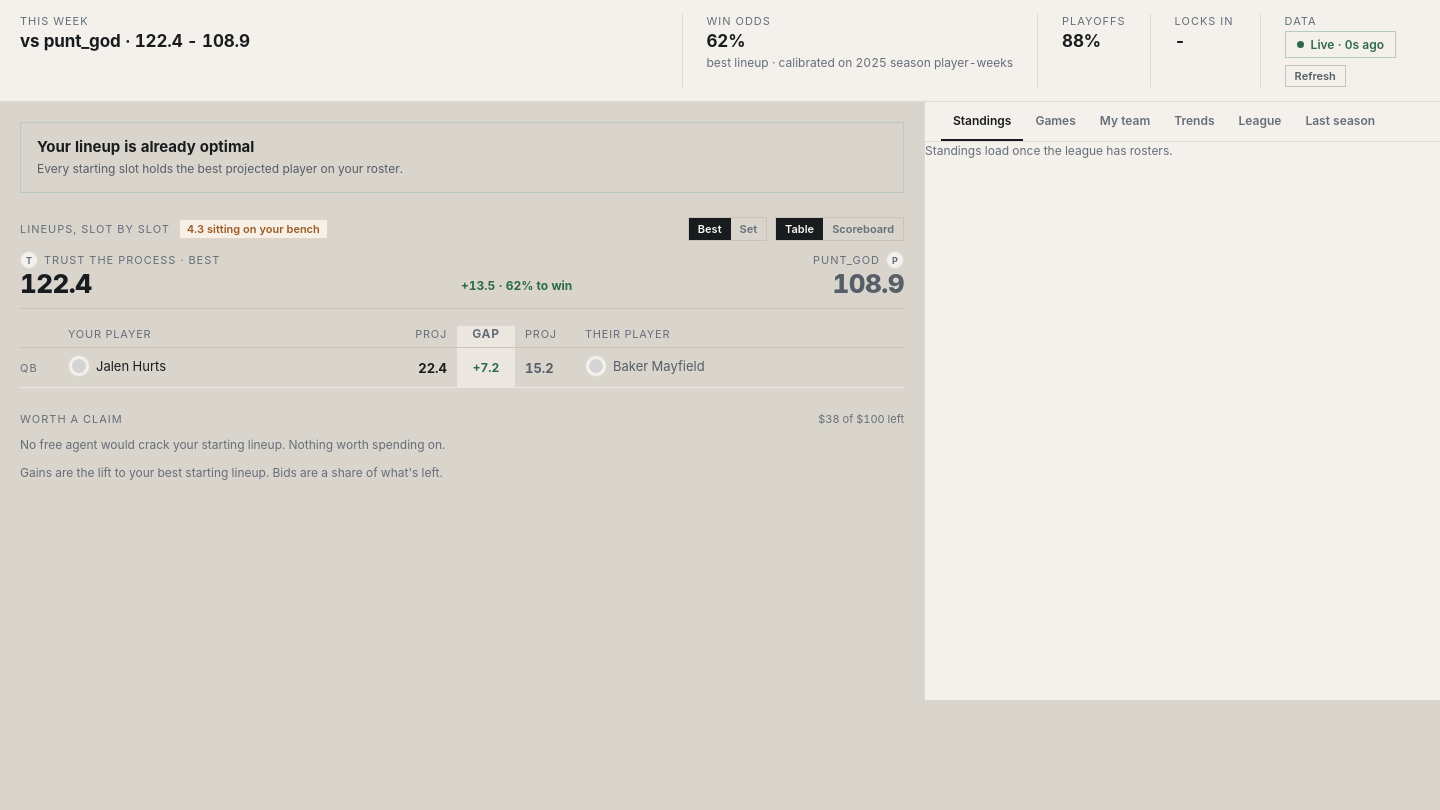
Test case: the odds › prices the header off the lineup the screen is showing
The image size is (1440, 810).
Expected: the text "vs punt_god · 122.4 - 108.9" is shown, [20,31,250,51]
Expected: the text "62%" is shown, [706,31,745,51]
Step 1. Click the button "Set" → (748, 229), box [730,218,766,240]
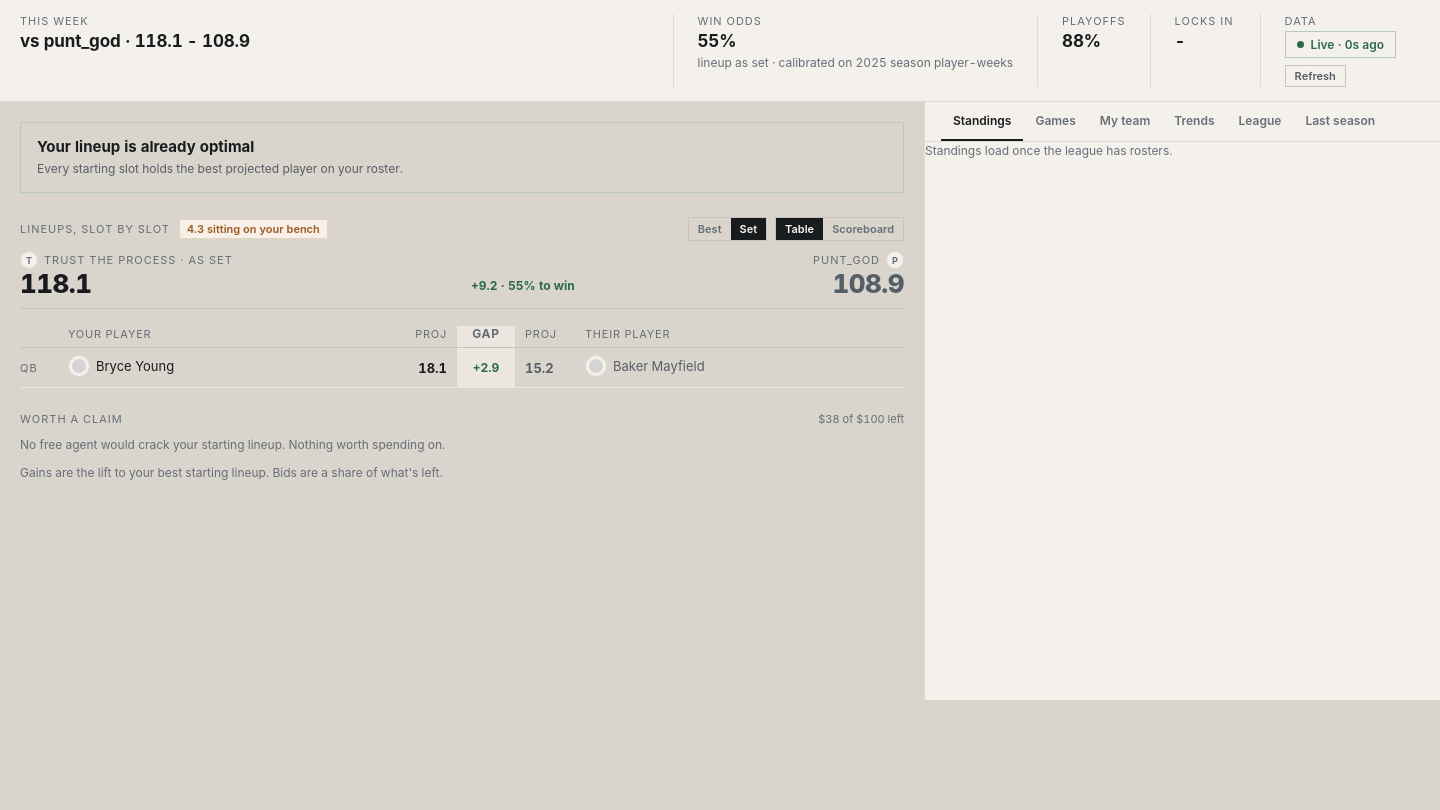
Expected: the text "vs punt_god · 118.1 - 108.9" is shown, [20,31,250,51]
Expected: the text "55%" is shown, [698,31,736,51]
Expected: the text "62%" is gone
